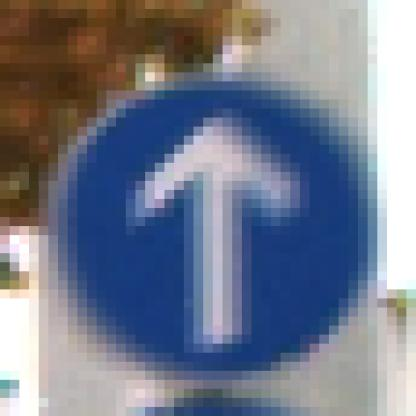AheadOnly: (49, 55, 369, 363)
